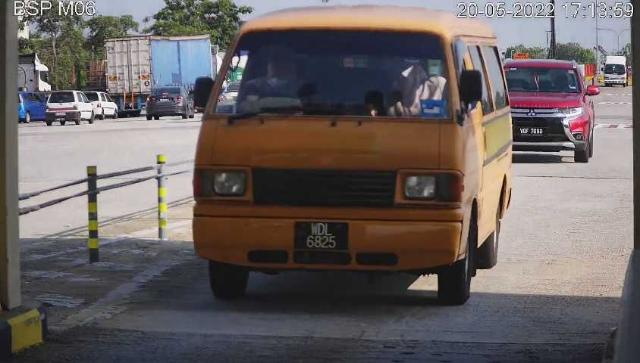License_Plate: (293, 219, 351, 255)
van: (194, 7, 512, 305)
